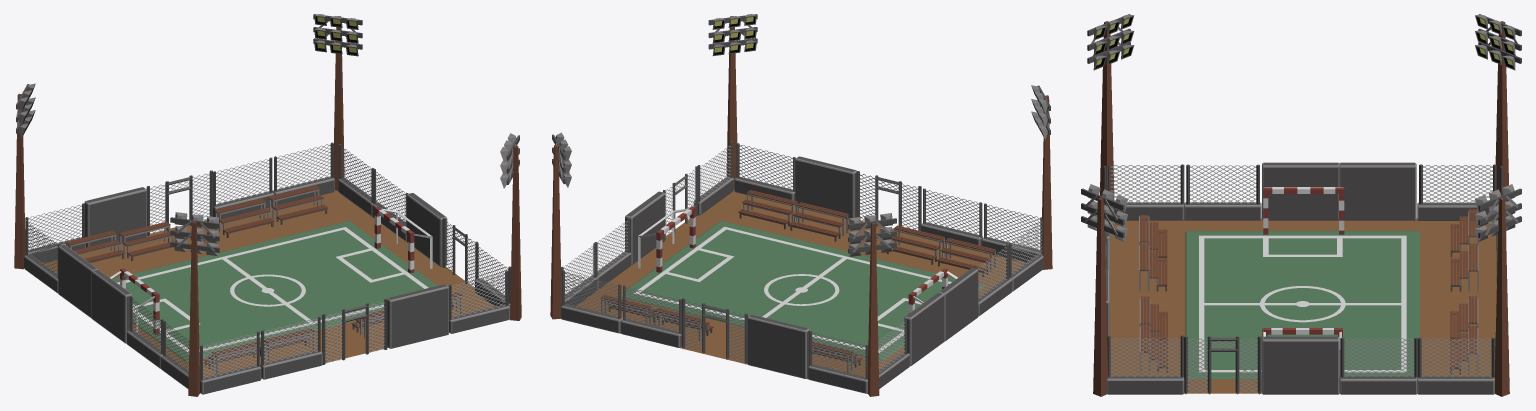
File: pole.glb
The picture shows the model from 3 angles, left to right: view 1: azimuth 30°, elevation 25°; view 2: azimuth 150°, elevation 25°; view 3: azimuth 270°, elevation 25°; orthographic projection. The views are drawn at different scales.
Visible parts, largest first — view 1: Plane.001, Plane.003, Cube.048, Plane.002, Cube.033, Cube.041, Cube.015, Cube.034, Cube.020, Cube.016, Cube.042, Cube.030 (+31 smaller); view 2: Plane.001, Plane.003, Cube.048, Cube.041, Plane.002, Cube.033, Cube.016, Cube.015, Cube.042, Cube.020, Cube.034, Cube.030 (+33 smaller); view 3: Plane.001, Plane.003, Cube.048, Cube.020, Cube.016, Plane.002, Cube.015, Cube.047, Cube.045, Cube.044, Cube.046, Cube.026 (+18 smaller).
Part boxes in pixels (x1,y1,x2,y2): Plane.001: (112, 221, 437, 361); Plane.003: (43, 190, 493, 393); Cube.048: (14, 14, 521, 396); Plane.002: (117, 227, 428, 352); Cube.033: (387, 284, 448, 348); Cube.041: (84, 187, 146, 247); Cube.015: (92, 269, 132, 343); Cube.034: (322, 298, 387, 364); Cube.020: (406, 193, 447, 266); Cube.016: (58, 245, 98, 318); Cube.042: (146, 170, 212, 235); Cube.030: (261, 316, 320, 365); Plane.001: (621, 221, 984, 360); Plane.003: (559, 190, 1024, 393); Cube.048: (550, 14, 1052, 396); Cube.041: (747, 314, 809, 378); Plane.002: (633, 226, 951, 352); Cube.033: (795, 156, 856, 219); Cube.016: (904, 292, 944, 366); Cube.015: (938, 268, 978, 341); Cube.042: (682, 298, 747, 363); Cube.020: (625, 191, 665, 264); Cube.034: (856, 171, 921, 230); Cube.030: (923, 188, 982, 237); Plane.001: (1185, 231, 1419, 379); Plane.003: (1109, 218, 1496, 393); Cube.048: (1081, 14, 1521, 396); Cube.020: (1262, 336, 1339, 394); Cube.016: (1339, 162, 1416, 220); Plane.002: (1199, 235, 1406, 372); Cube.015: (1262, 162, 1339, 220); Cube.047: (1184, 336, 1261, 394); Cube.045: (1418, 337, 1495, 377); Cube.044: (1340, 337, 1417, 377); Cube.046: (1107, 335, 1184, 377); Cube.026: (1108, 164, 1184, 204).
Size of the model in its own units: 25.86 by 12.55 by 25.1.
Materials: 2 (2 with a texture image).
